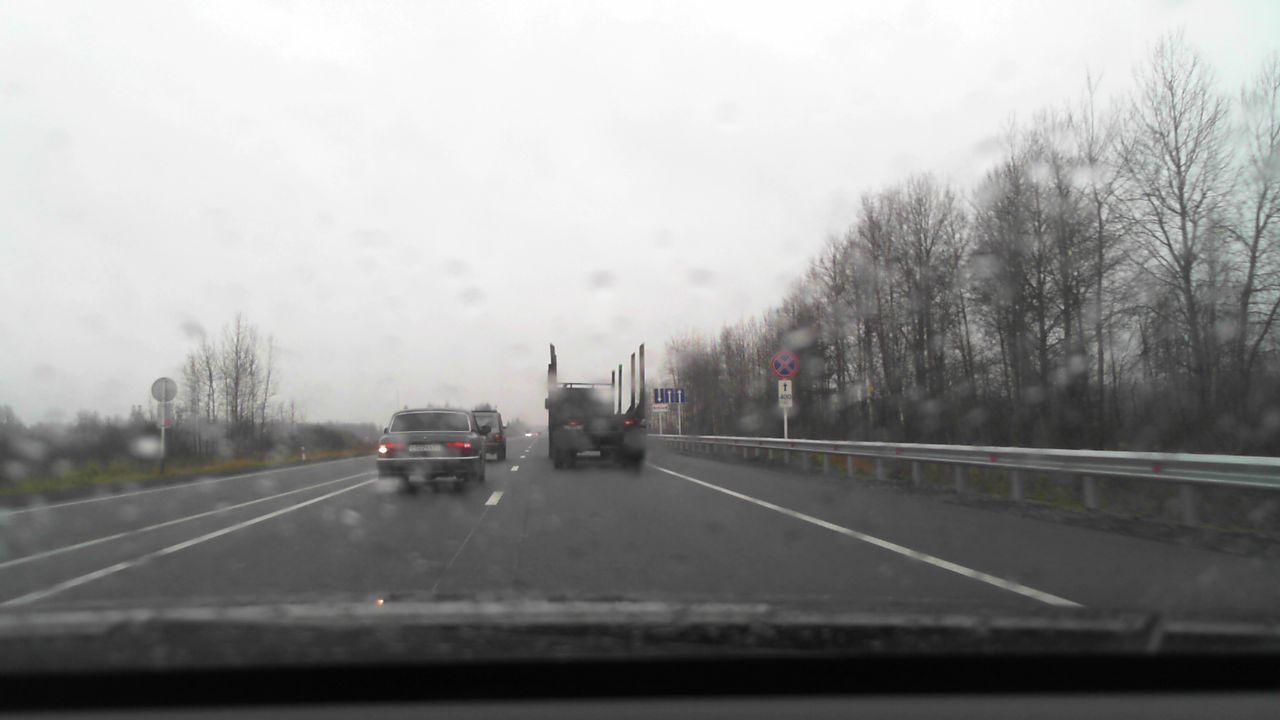No Parking: (769, 349, 800, 379)
